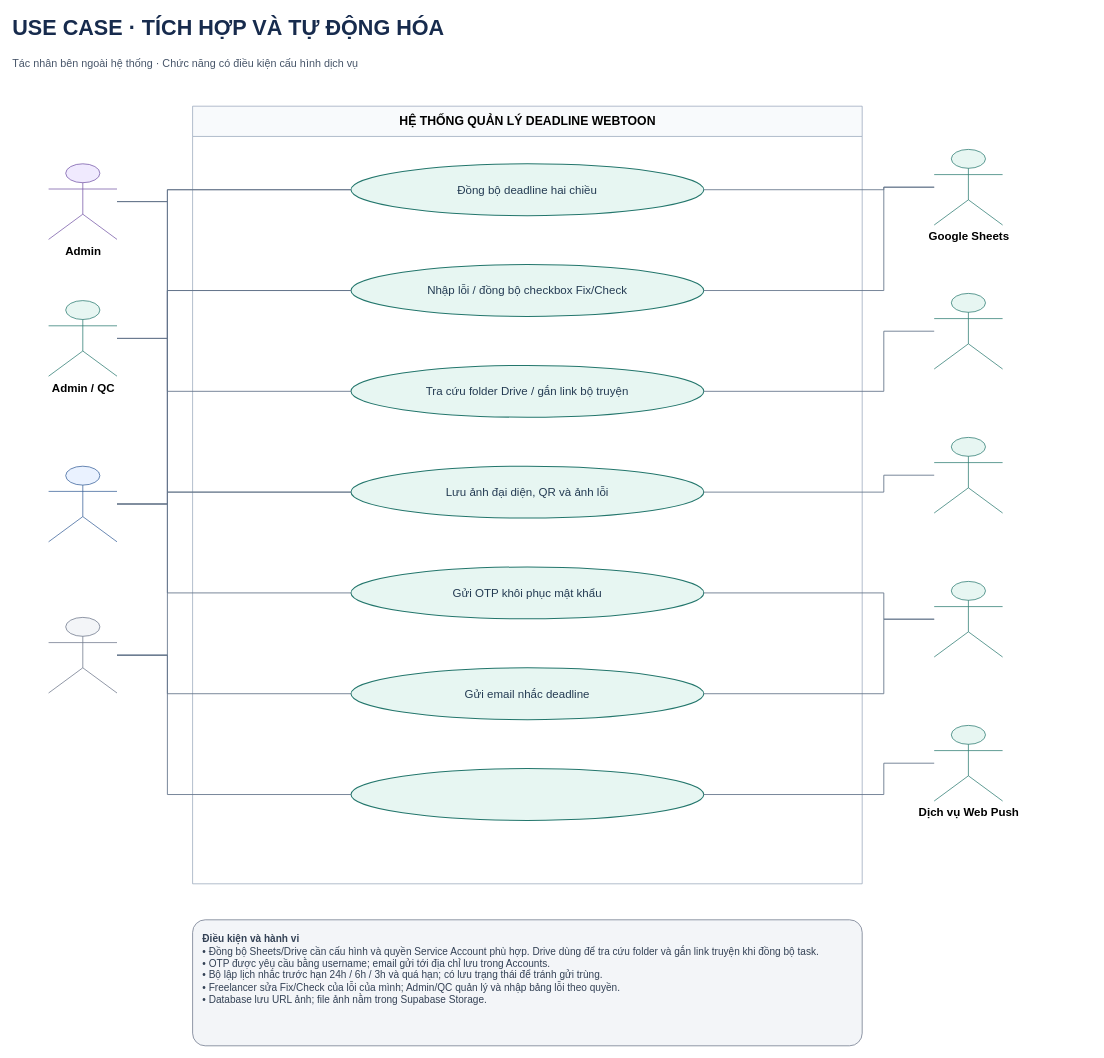
Some shapes in this 1104 by 1058 pixel diagram are drawn without their labels. Each missing label, with the centre of its shape:
"Bộ lập lịch" belongs at (82,655).
"Gmail / Email" belongs at (968,619).
"Google Drive" belongs at (968,331).
"Gửi thông báo thiết bị" belongs at (527,794).
"Người dùng" belongs at (82,503).
"Supabase Storage" belongs at (968,475).
